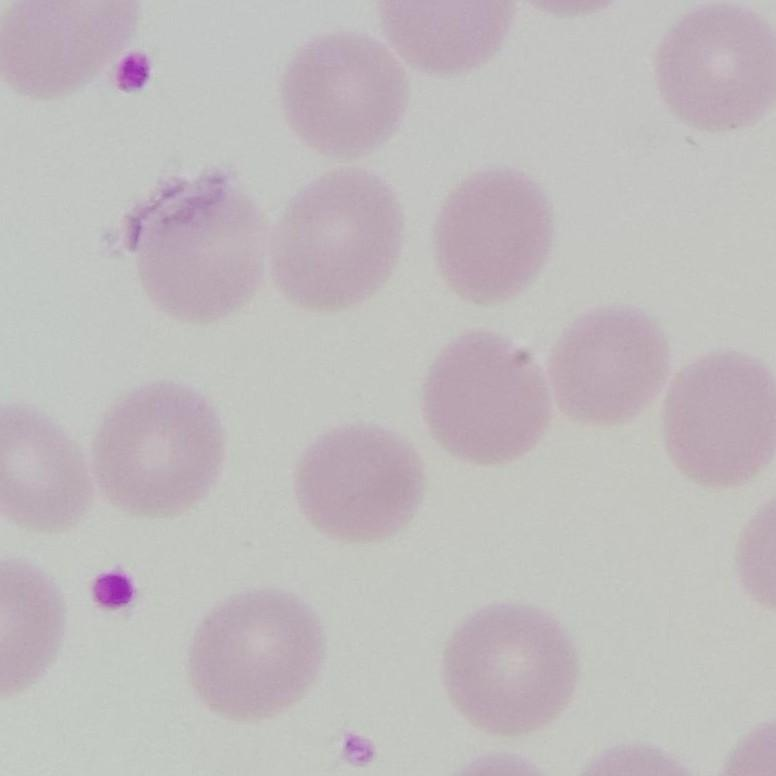Uninfected: (440, 599, 585, 739), (415, 322, 555, 466), (128, 177, 267, 319), (272, 162, 403, 312), (92, 382, 229, 519), (192, 586, 325, 725), (295, 412, 428, 543), (283, 27, 408, 162), (433, 161, 545, 305), (545, 304, 672, 429), (667, 351, 776, 493), (658, 0, 776, 129), (0, 392, 84, 535)
